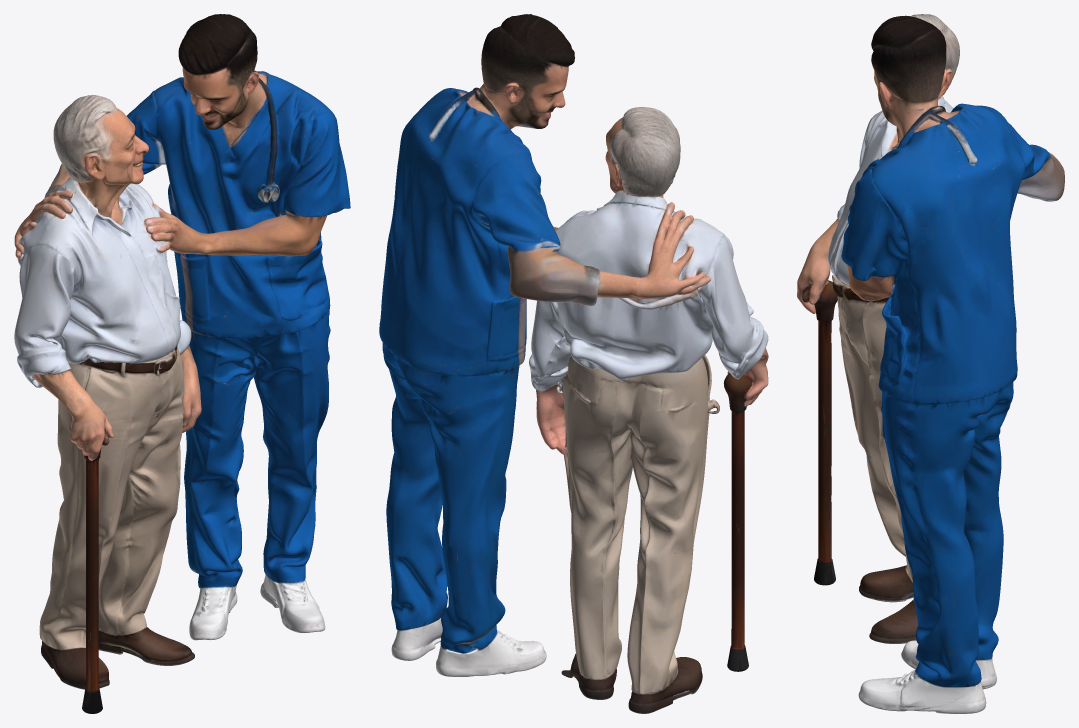
3 renders of one model, left to right at view 1: azimuth 30°, elevation 25°; view 2: azimuth 150°, elevation 25°; view 3: azimuth 270°, elevation 25°, orthographic. The views are drawn at different scales.
Size of the model in its own units: 1.06 by 1.91 by 0.7157.
1 material, 1 textured.
